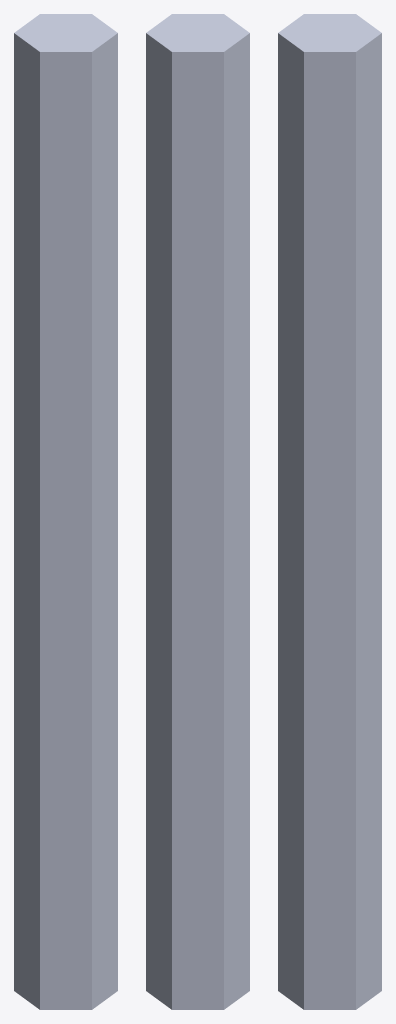
Rendered from spaceInterior_003.obj.
3 views of the same model, side by side, from view 1: azimuth 90°, elevation 25°; view 2: azimuth 150°, elevation 25°; view 3: azimuth 270°, elevation 25° (orthographic).
Parts seen in each view (by area): view 1: Mesh1 Group1 Model; view 2: Mesh1 Group1 Model; view 3: Mesh1 Group1 Model.
Boxes of the visible parts, x1,y1,x2,y2 form: Mesh1 Group1 Model: [14, 14, 117, 1009]; Mesh1 Group1 Model: [146, 14, 249, 1009]; Mesh1 Group1 Model: [278, 14, 381, 1009].
Bounding box in the file's own units: 0.0745 × 0.875 × 0.086.
